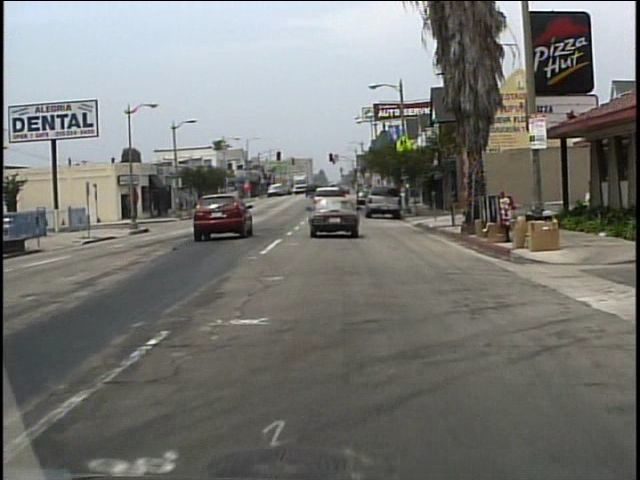person: (479, 180, 489, 214), (469, 183, 477, 210)
